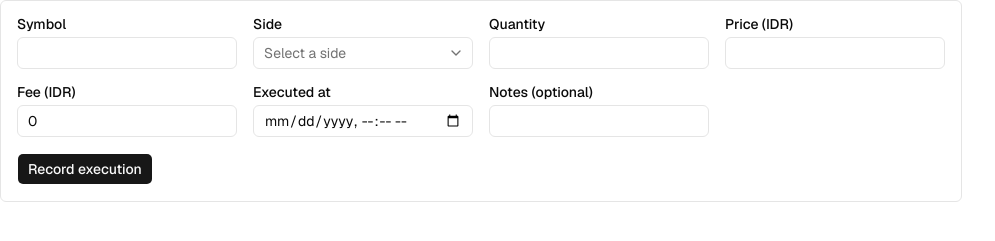
Scenario: ExecutionForm › rejects a non-positive quantity (-10)
Step 1. Type "BBCA" into the field labelled "Symbol" → (127, 53), box [17,37,237,69]
Step 2. Click the dropdown labelled "side" → click(363, 53), box [253,37,473,69]
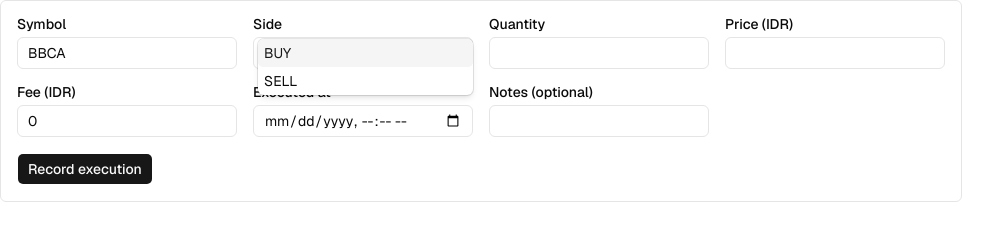
Step 3. Click the option "BUY" → click(366, 53), box [258,39,473,67]
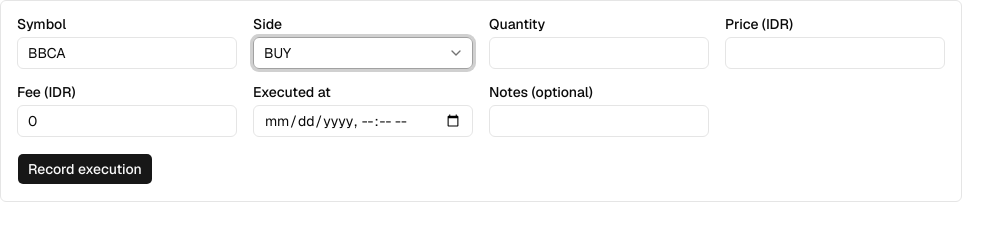
Step 4. Type "-10" into the number field labelled "Quantity" → (599, 53), box [489,37,709,69]
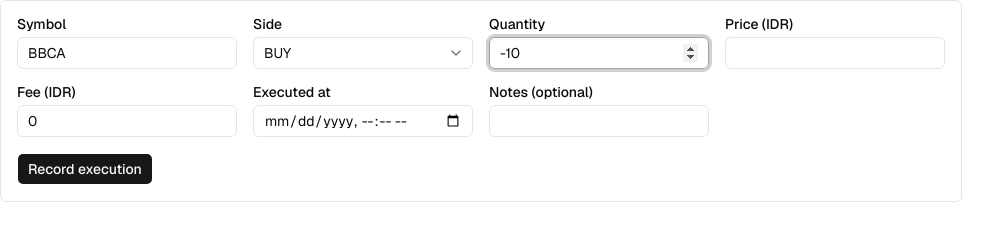
Step 5. Type "1050" into the number field labelled "Price (IDR)" → (835, 53), box [725,37,945,69]
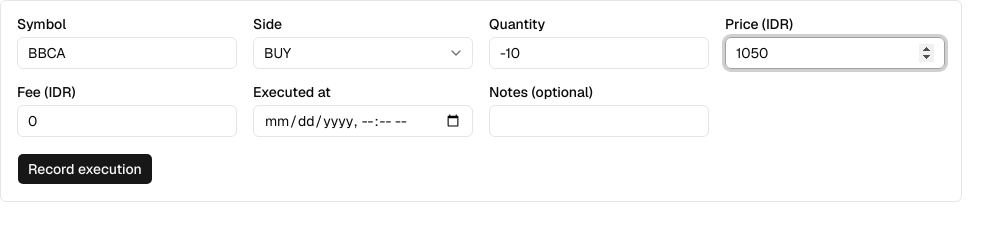
Step 6. Type "2024-03-01T09:30" into the field labelled "Executed at" → (363, 121), box [253,105,473,137]
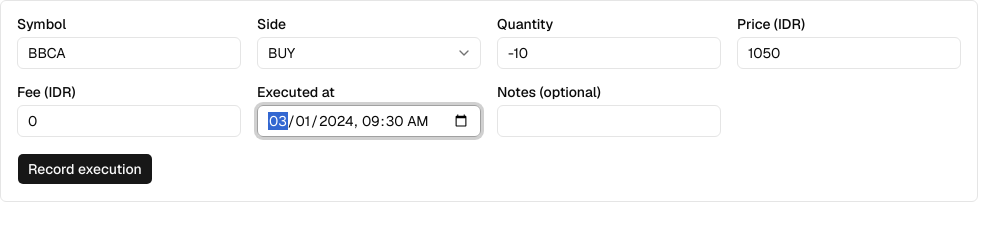
Step 7. Click the button "Record execution" → click(85, 169), box [17,153,153,185]
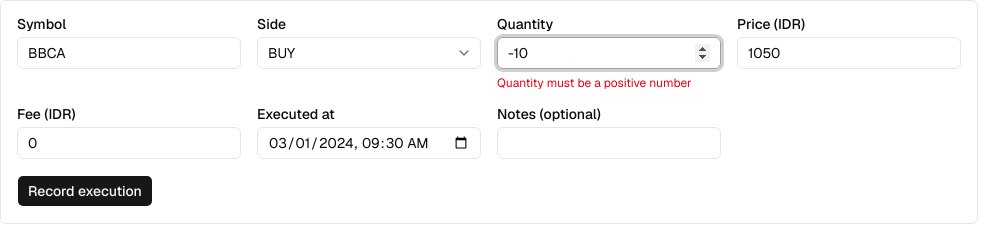
Check: the text "Quantity must be a positive number" is shown, box [497,75,721,91]
